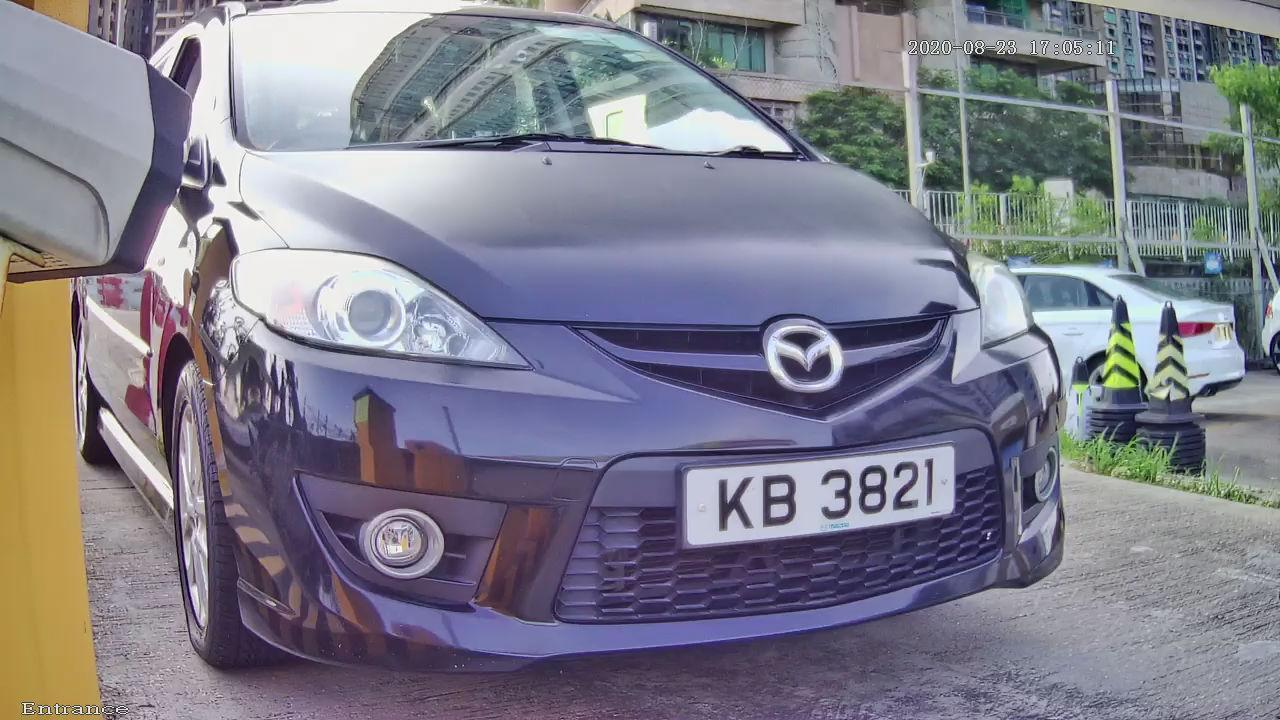Car: (58, 7, 1126, 714)
License Plate: (613, 399, 1019, 598)
